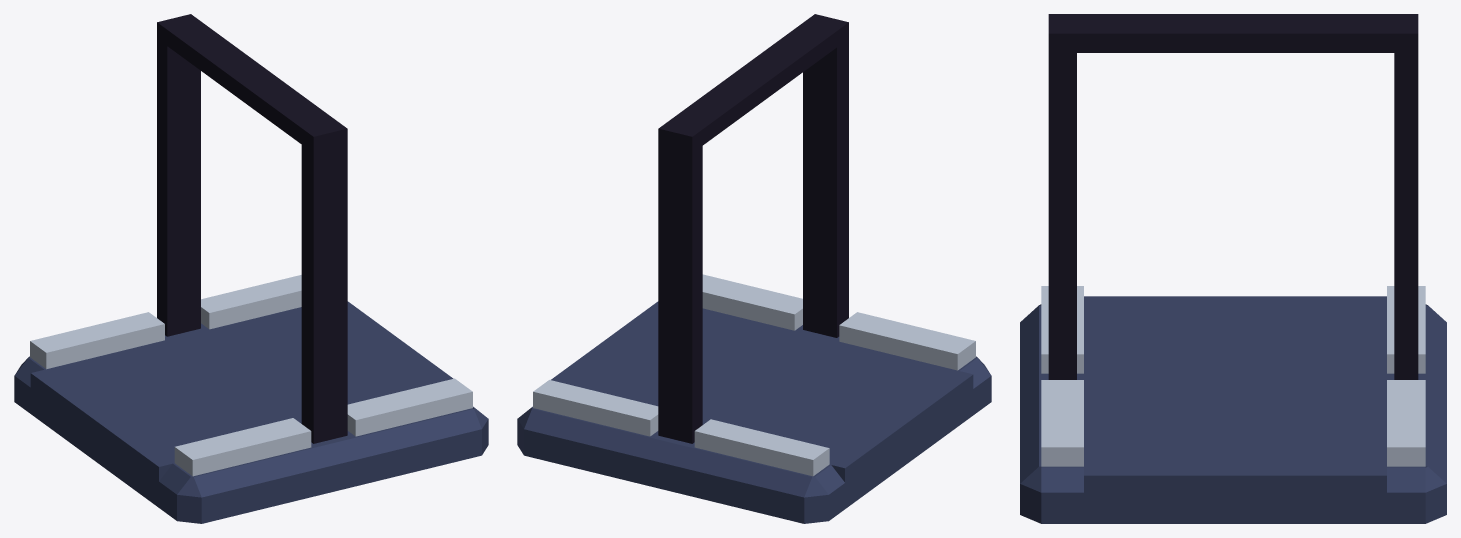
Rendered from adv_gate_1x1.fbx.
3 views of the same model, side by side, from view 1: azimuth 30°, elevation 25°; view 2: azimuth 150°, elevation 25°; view 3: azimuth 270°, elevation 25° (orthographic). The views are drawn at different scales.
Visible parts, largest first — view 1: adv_gate_1x1; view 2: adv_gate_1x1; view 3: adv_gate_1x1.
Boxes of the visible parts, x1,y1,x2,y2 form: adv_gate_1x1: (14,14,488,523); adv_gate_1x1: (517,14,991,523); adv_gate_1x1: (1020,14,1446,523).
Bounding box in the file's own units: 199 × 213 × 200.
